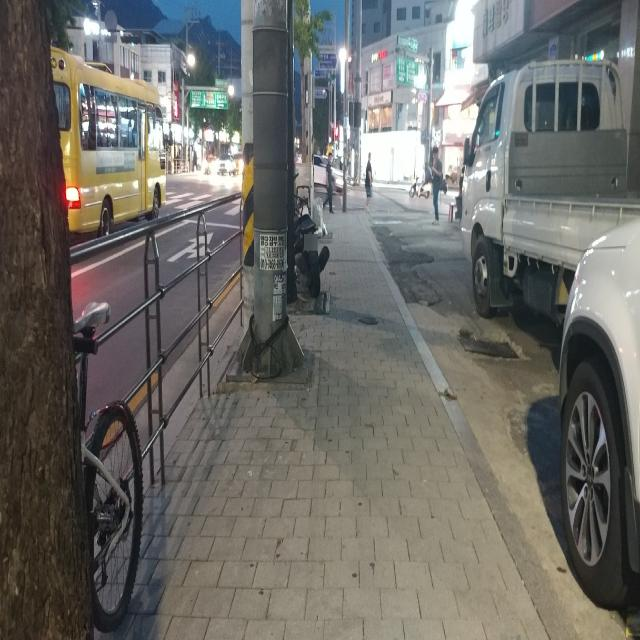횡단보도: (340, 189, 457, 216)
